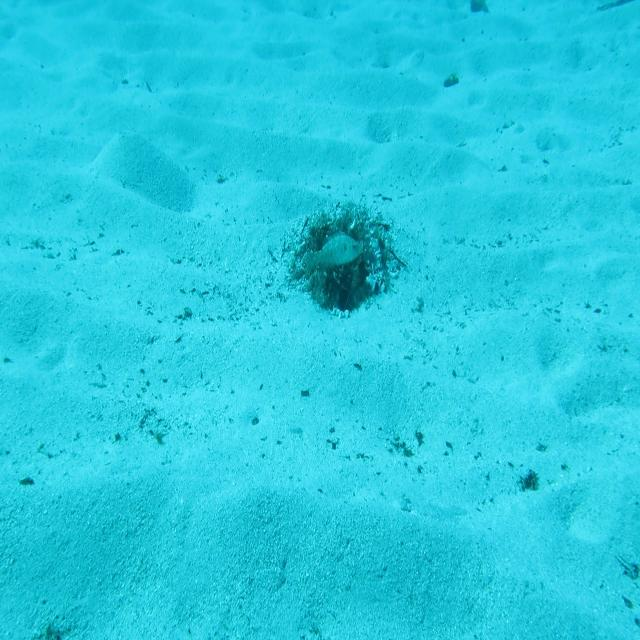MAN: (305, 229, 364, 272)
nest: (289, 200, 393, 315)
vegetation: (520, 468, 538, 489), (443, 75, 458, 90)
